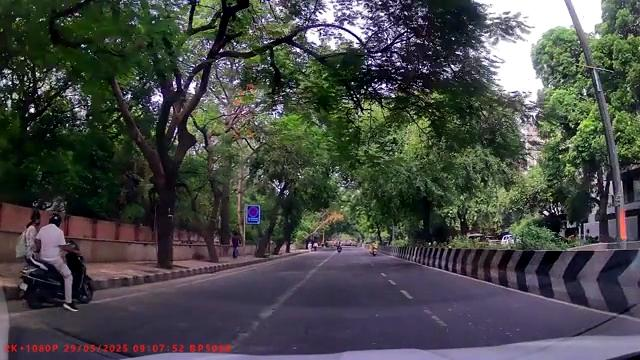passenger_without_helmet: (17, 210, 96, 311)
